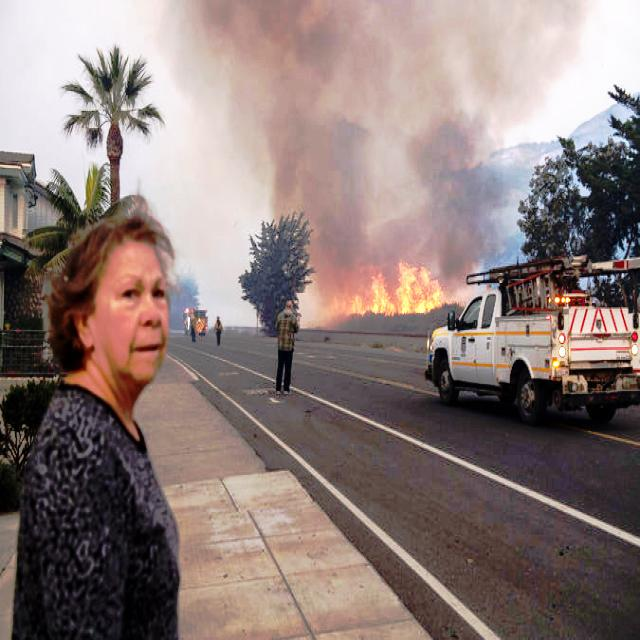api: (337, 262, 449, 328)
asap: (152, 1, 607, 328)
